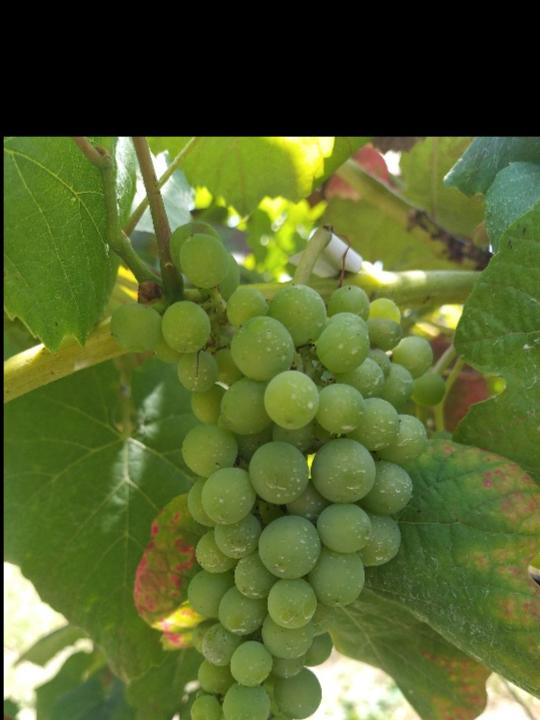grape: (108, 221, 448, 720)
